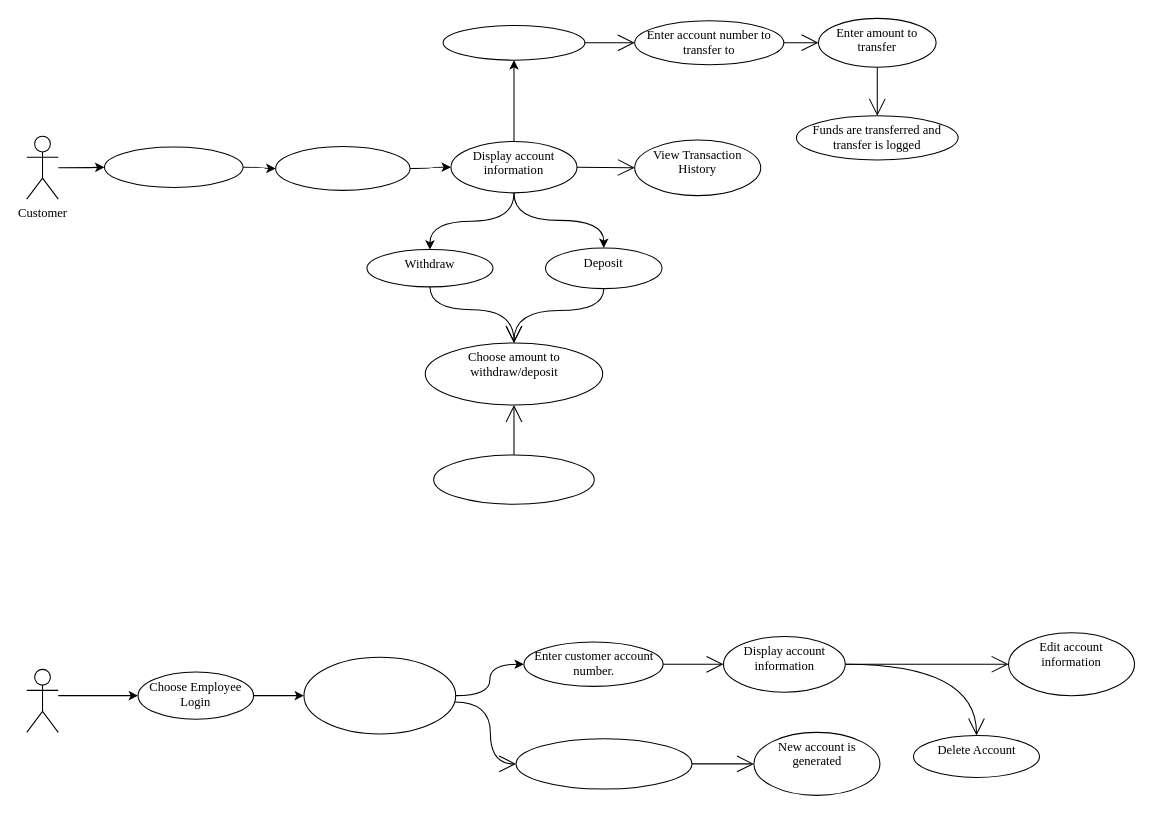
Some shapes in this 1153 by 814 pixel diagram are drawn without their labels. Here are the shapes that lost their labels. From the top down, the centre of each, then its label:
point 513,42: Transfer Account Funds
point 173,166: Enters Card Number and PIN
point 342,167: Choose account to manage
point 513,479: Account Information is Updated and Logged
point 42,700: Teller
point 379,695: Enter Employee Username and password
point 603,763: Enter customer personal information
